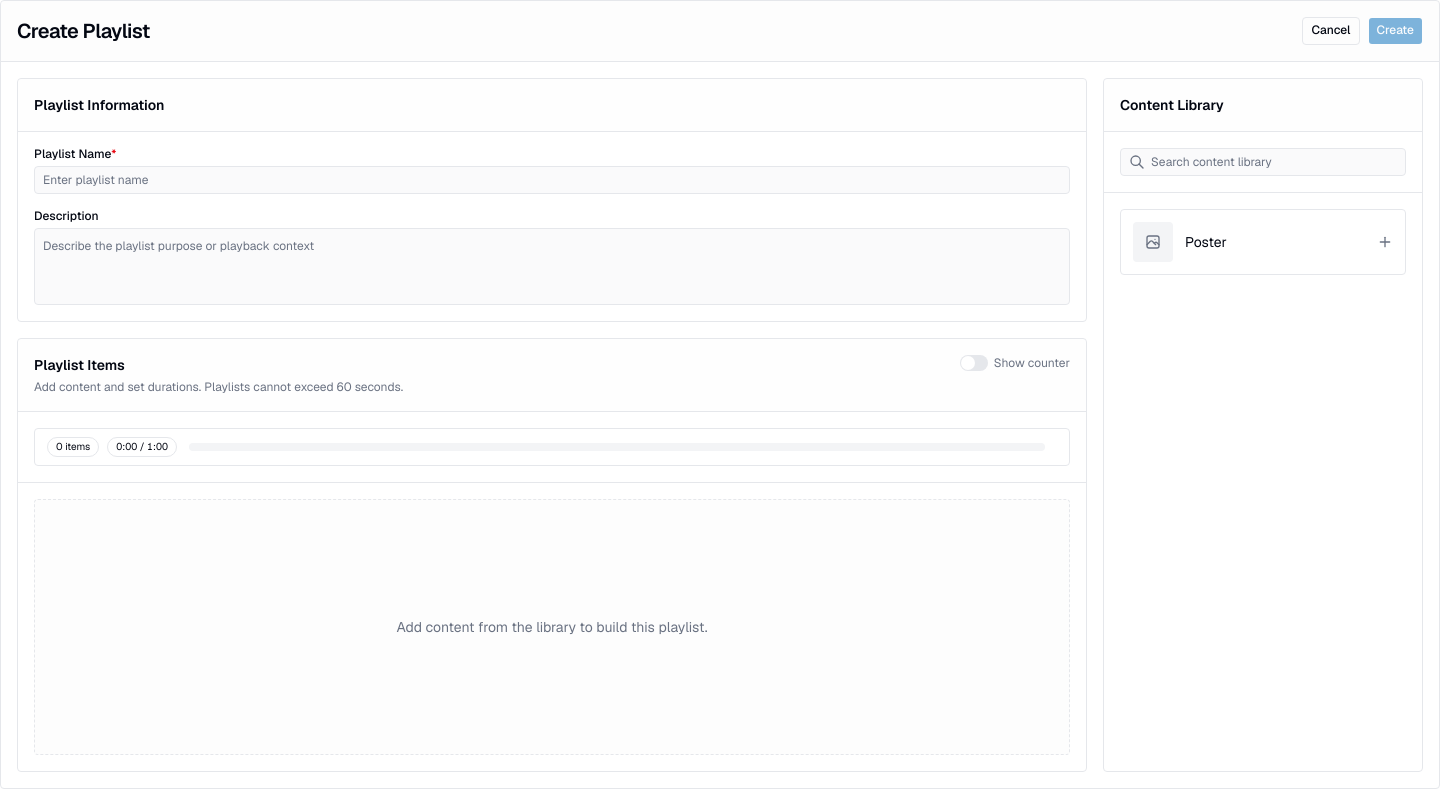
Test: CreatePlaylistPage › shows creating state in the page header while submitting
This screenshot has width=1440, height=810.
In the field labelled "Playlist Name": (552, 180) [34, 166, 1070, 194], type "Morning Playlist"
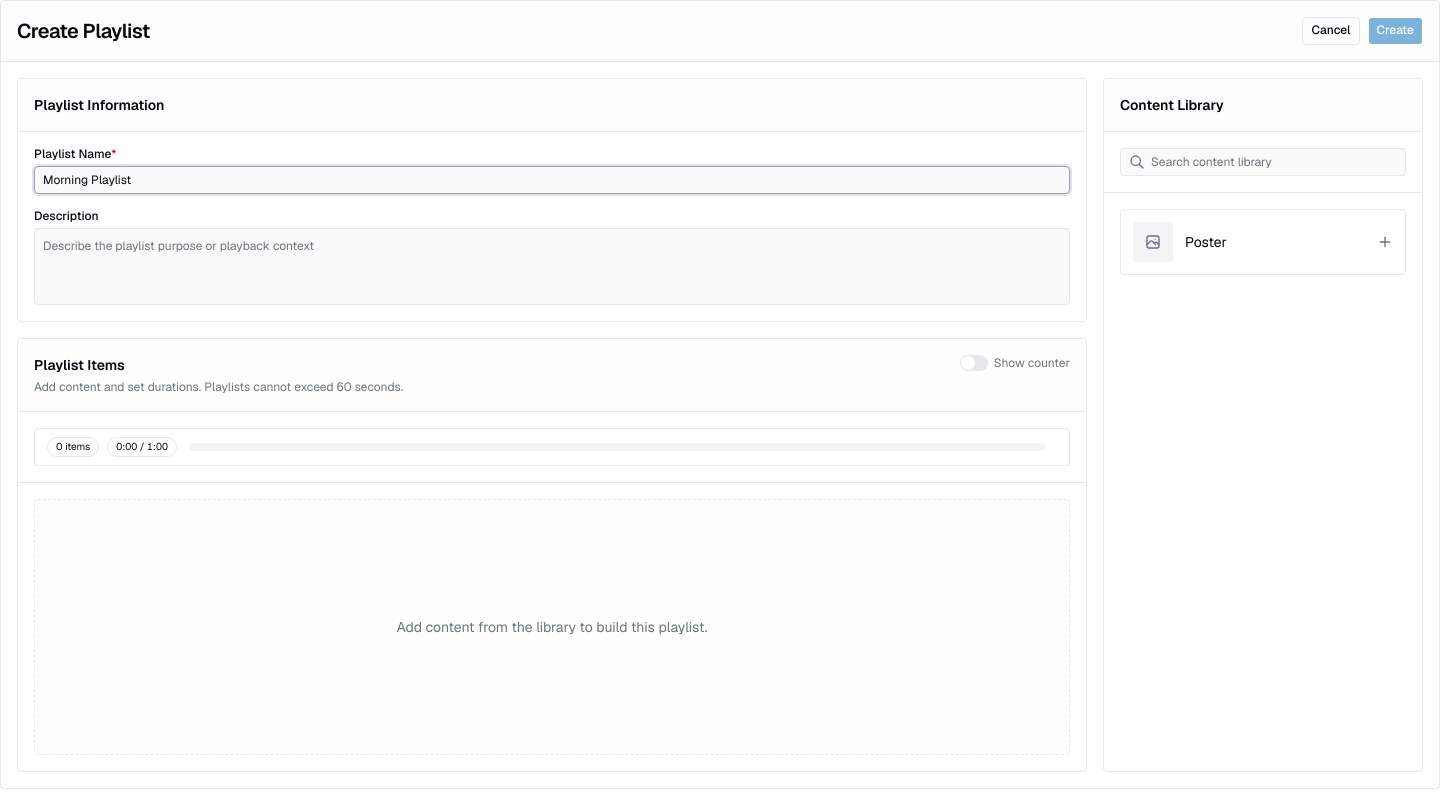
Click the button "Poster": (1153, 242) [1120, 209, 1406, 275]
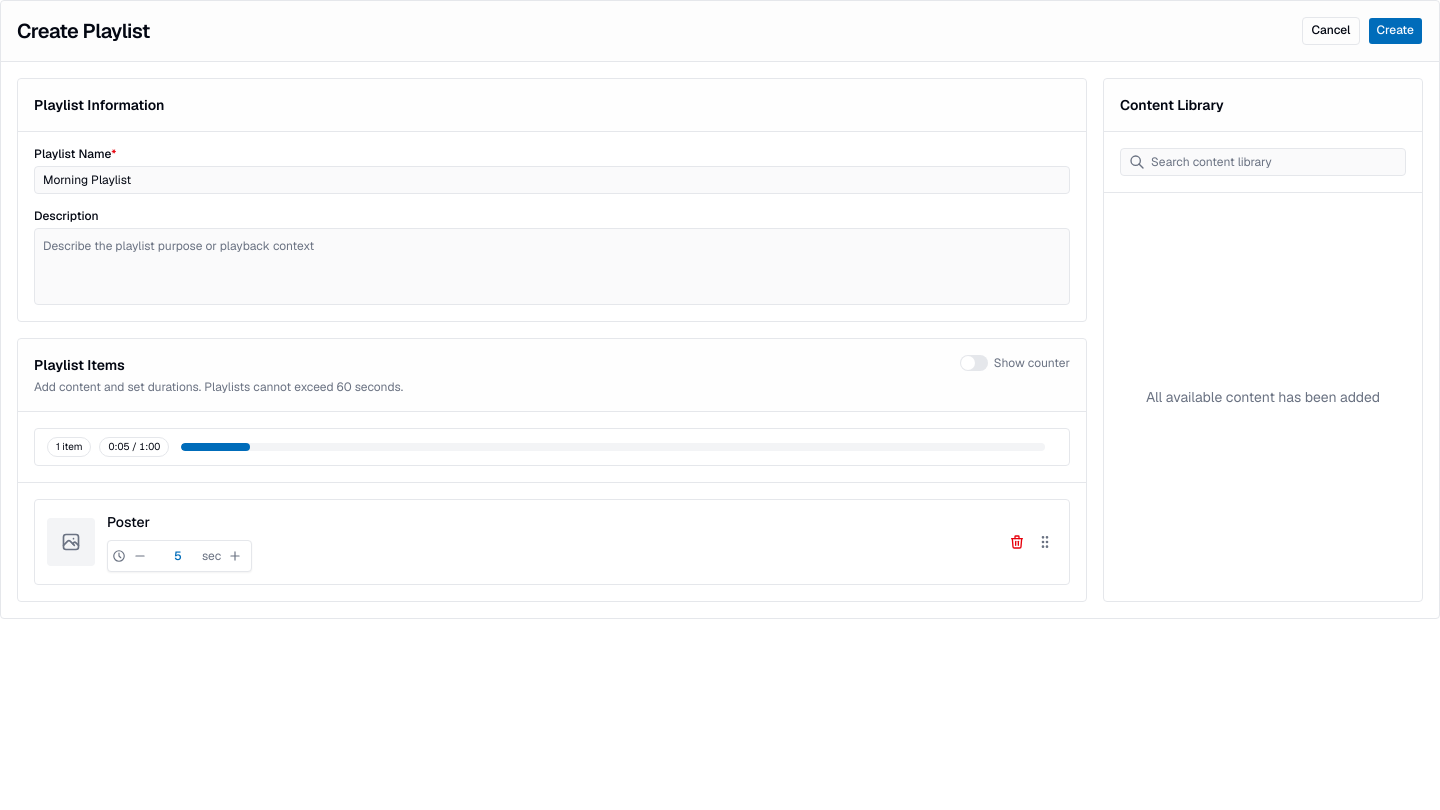
Click the button "Create": (1395, 31) [1368, 17, 1423, 45]
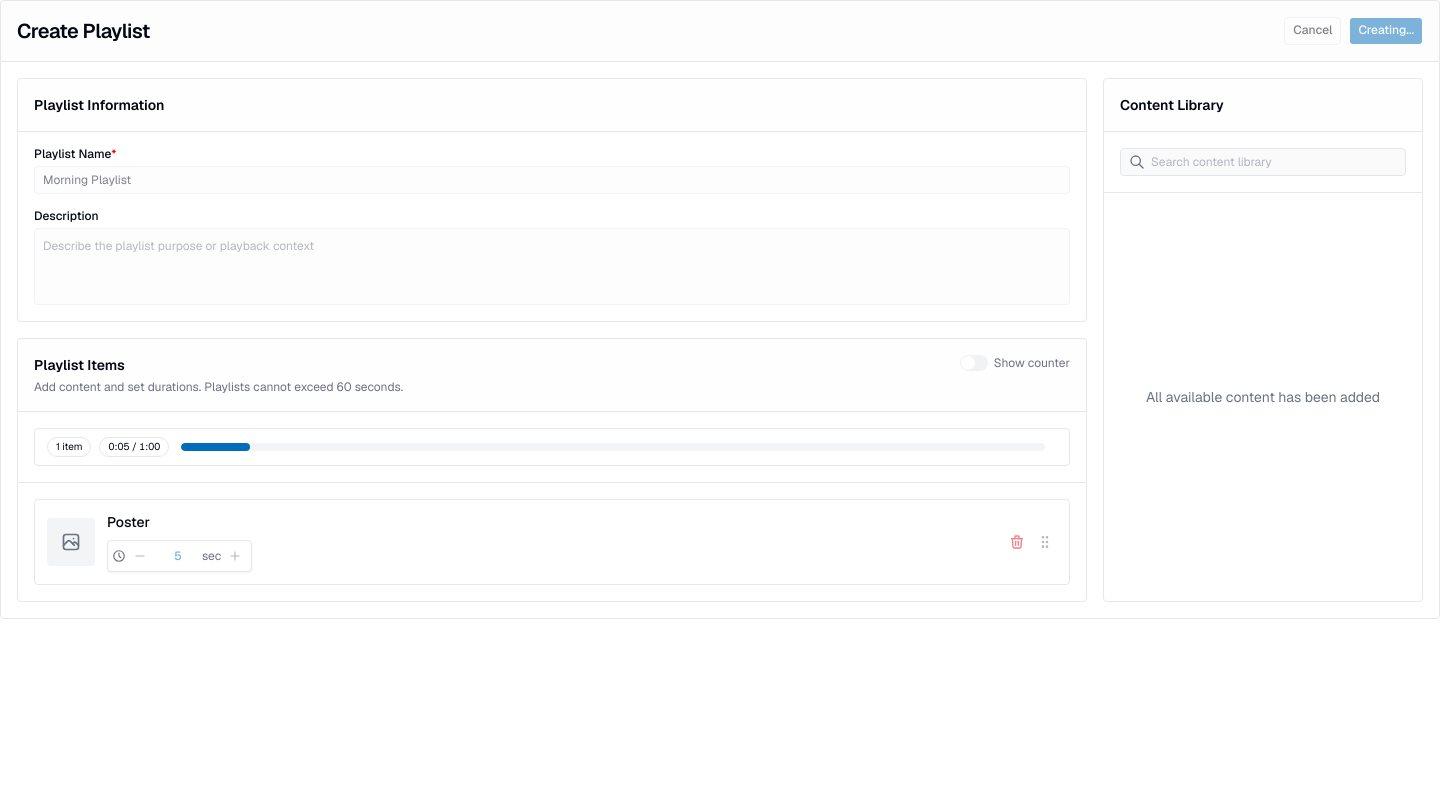
Now the button "Creating..." is disabled, box [1349, 17, 1423, 45]
Now the button "Cancel" is disabled, box [1284, 17, 1341, 45]
